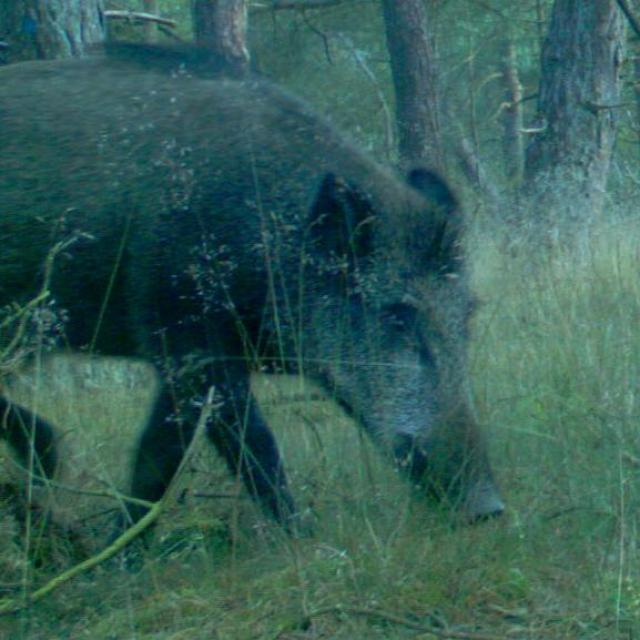pig: (14, 69, 512, 537)
